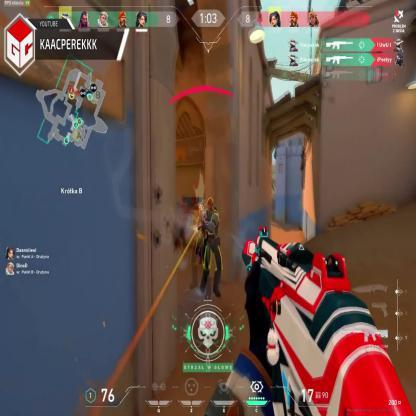enemy: (198, 197, 222, 295)
enemy_head: (207, 198, 213, 212)
